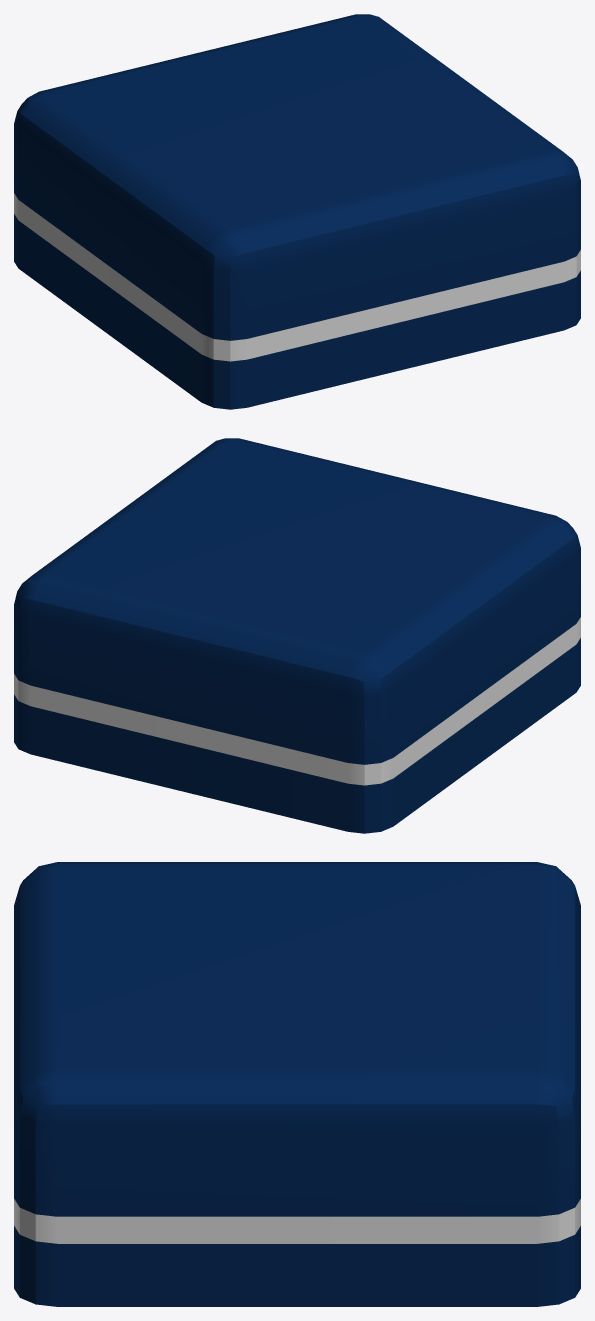
3 renders of one model, top to bottom at view 1: azimuth 30°, elevation 25°; view 2: azimuth 150°, elevation 25°; view 3: azimuth 270°, elevation 25°, orthographic. The views are drawn at different scales.
Parts seen in each view (by area): view 1: pCube2; view 2: pCube2; view 3: pCube2.
Part boxes in pixels (box(x1,y1,x2,y2)): pCube2: box(14, 14, 580, 409); pCube2: box(14, 438, 580, 833); pCube2: box(14, 862, 580, 1306).
Bounding box in the file's own units: 1.94 × 0.8311 × 1.94.
